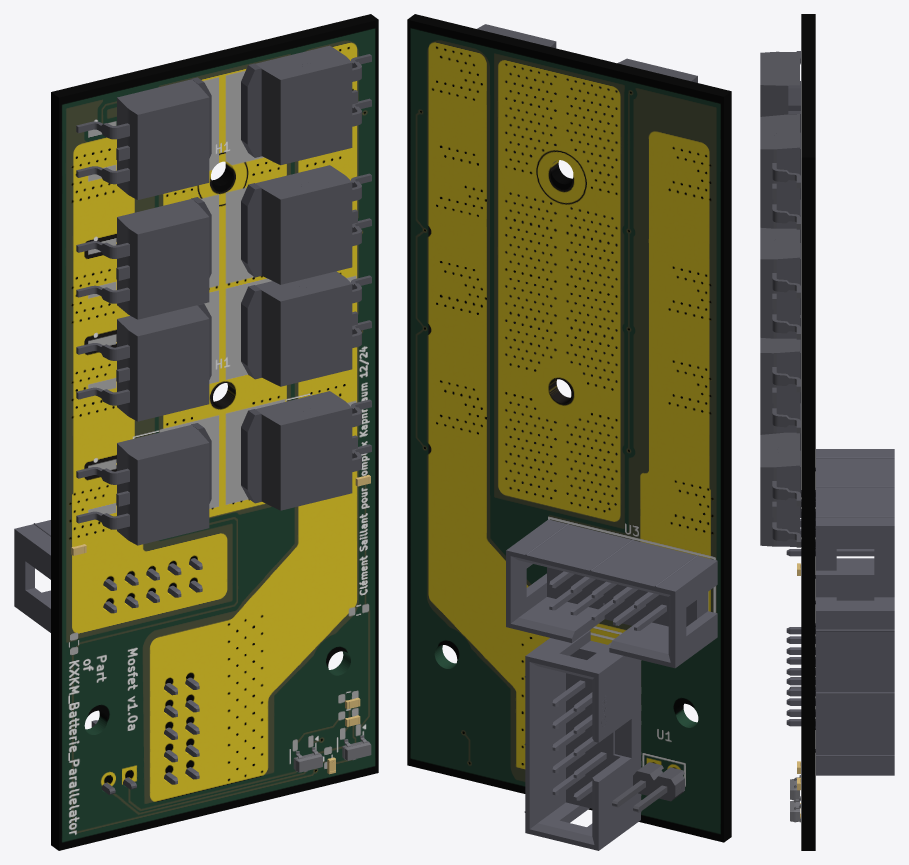
The model's file is mosfet_switch.glb.
The picture shows the model from 3 angles, left to right: view 1: azimuth 30°, elevation 25°; view 2: azimuth 150°, elevation 25°; view 3: azimuth 270°, elevation 25°; orthographic projection. The views are drawn at different scales.
Visible parts, largest first — view 1: Mosfet_Switch; view 2: Mosfet_Switch; view 3: Mosfet_Switch.
Part boxes in pixels (x1=…): Mosfet_Switch: x1=14, y1=14, x2=378, y2=850; Mosfet_Switch: x1=407, y1=14, x2=731, y2=850; Mosfet_Switch: x1=760, y1=14, x2=894, y2=850.
Size of the model in its own units: 3.8 by 8.55 by 1.5.
7 materials, 2 textured.
